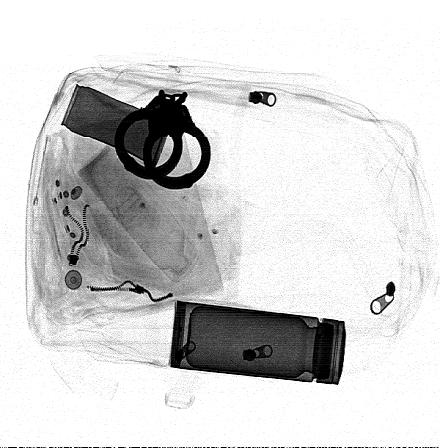HandCuffs: (114, 89, 211, 191)
